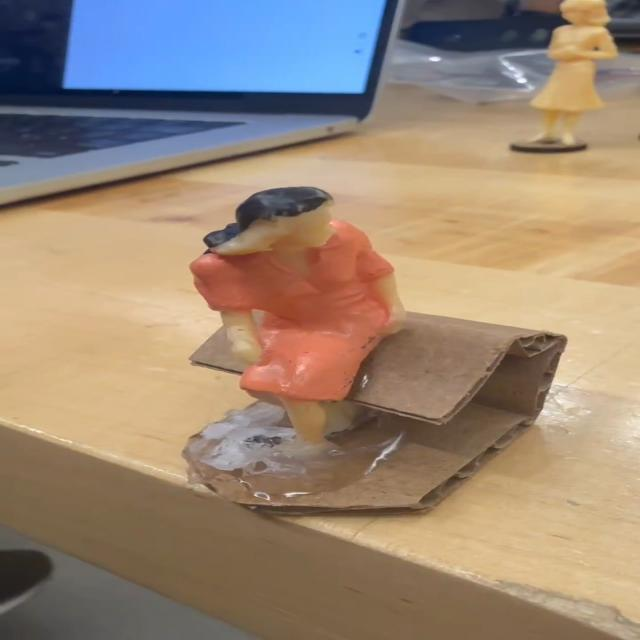Authorized: (180, 183, 408, 453)
